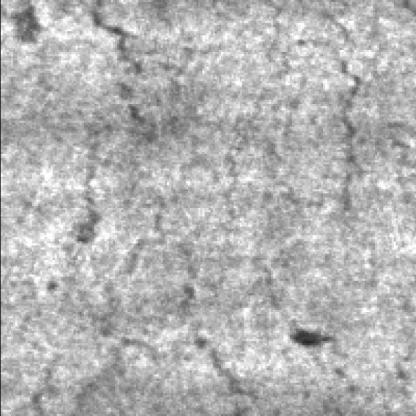crazing: (75, 2, 258, 414), (255, 0, 370, 218)
